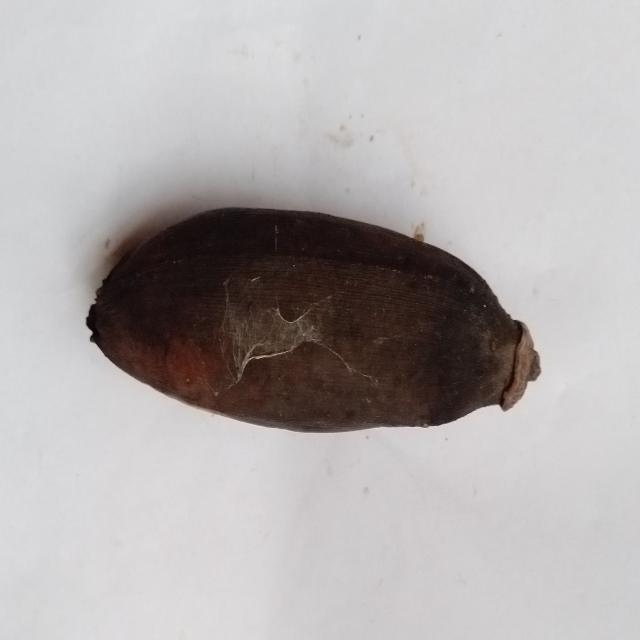banana: (95, 209, 522, 437)
